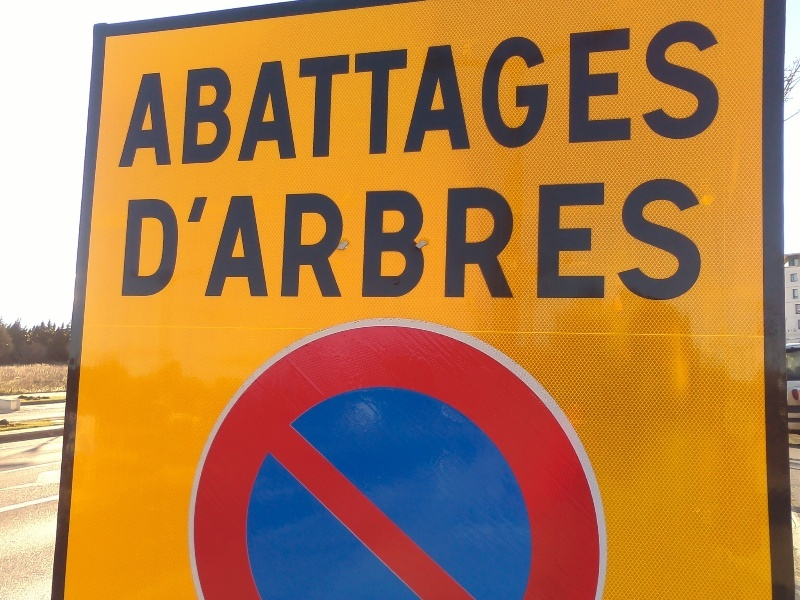text: (145, 17, 160, 169), (161, 17, 176, 169), (177, 17, 192, 169), (193, 17, 208, 169), (209, 17, 224, 169), (225, 17, 240, 169), (241, 17, 256, 169), (257, 17, 272, 169), (273, 17, 288, 169), (289, 17, 304, 169), (305, 17, 320, 169), (321, 17, 336, 169), (337, 17, 352, 169), (353, 17, 368, 169), (369, 17, 384, 169), (385, 17, 400, 169), (401, 17, 416, 169), (417, 17, 432, 169), (433, 17, 448, 169), (449, 17, 464, 169), (465, 17, 480, 169), (481, 17, 496, 169), (497, 17, 512, 169), (513, 17, 528, 169), (529, 17, 544, 169), (545, 17, 560, 169), (561, 17, 576, 169), (577, 17, 592, 169), (593, 17, 608, 169), (609, 17, 624, 169), (625, 17, 640, 169), (641, 17, 656, 169), (657, 17, 672, 169), (673, 17, 688, 169), (689, 17, 704, 169), (705, 17, 720, 169), (129, 174, 144, 301), (145, 174, 160, 301), (161, 174, 176, 301), (177, 174, 192, 301), (193, 174, 208, 301), (209, 174, 224, 301), (225, 174, 240, 301), (241, 174, 256, 301), (257, 174, 272, 301), (273, 174, 288, 301), (289, 174, 304, 301), (305, 174, 320, 301), (321, 174, 336, 301), (337, 174, 352, 301), (353, 174, 368, 301), (369, 174, 384, 301), (385, 174, 400, 301), (401, 174, 416, 301), (417, 174, 432, 301), (433, 174, 448, 301), (449, 174, 464, 301), (465, 174, 480, 301), (481, 174, 496, 301), (497, 174, 512, 301), (513, 174, 528, 301), (529, 174, 544, 301), (545, 174, 560, 301), (561, 174, 576, 301), (577, 174, 592, 301), (593, 174, 608, 301), (609, 174, 624, 301), (625, 174, 640, 301), (641, 174, 656, 301), (657, 174, 672, 301), (673, 174, 688, 301), (689, 174, 703, 301), (721, 17, 724, 169), (142, 17, 144, 169)
